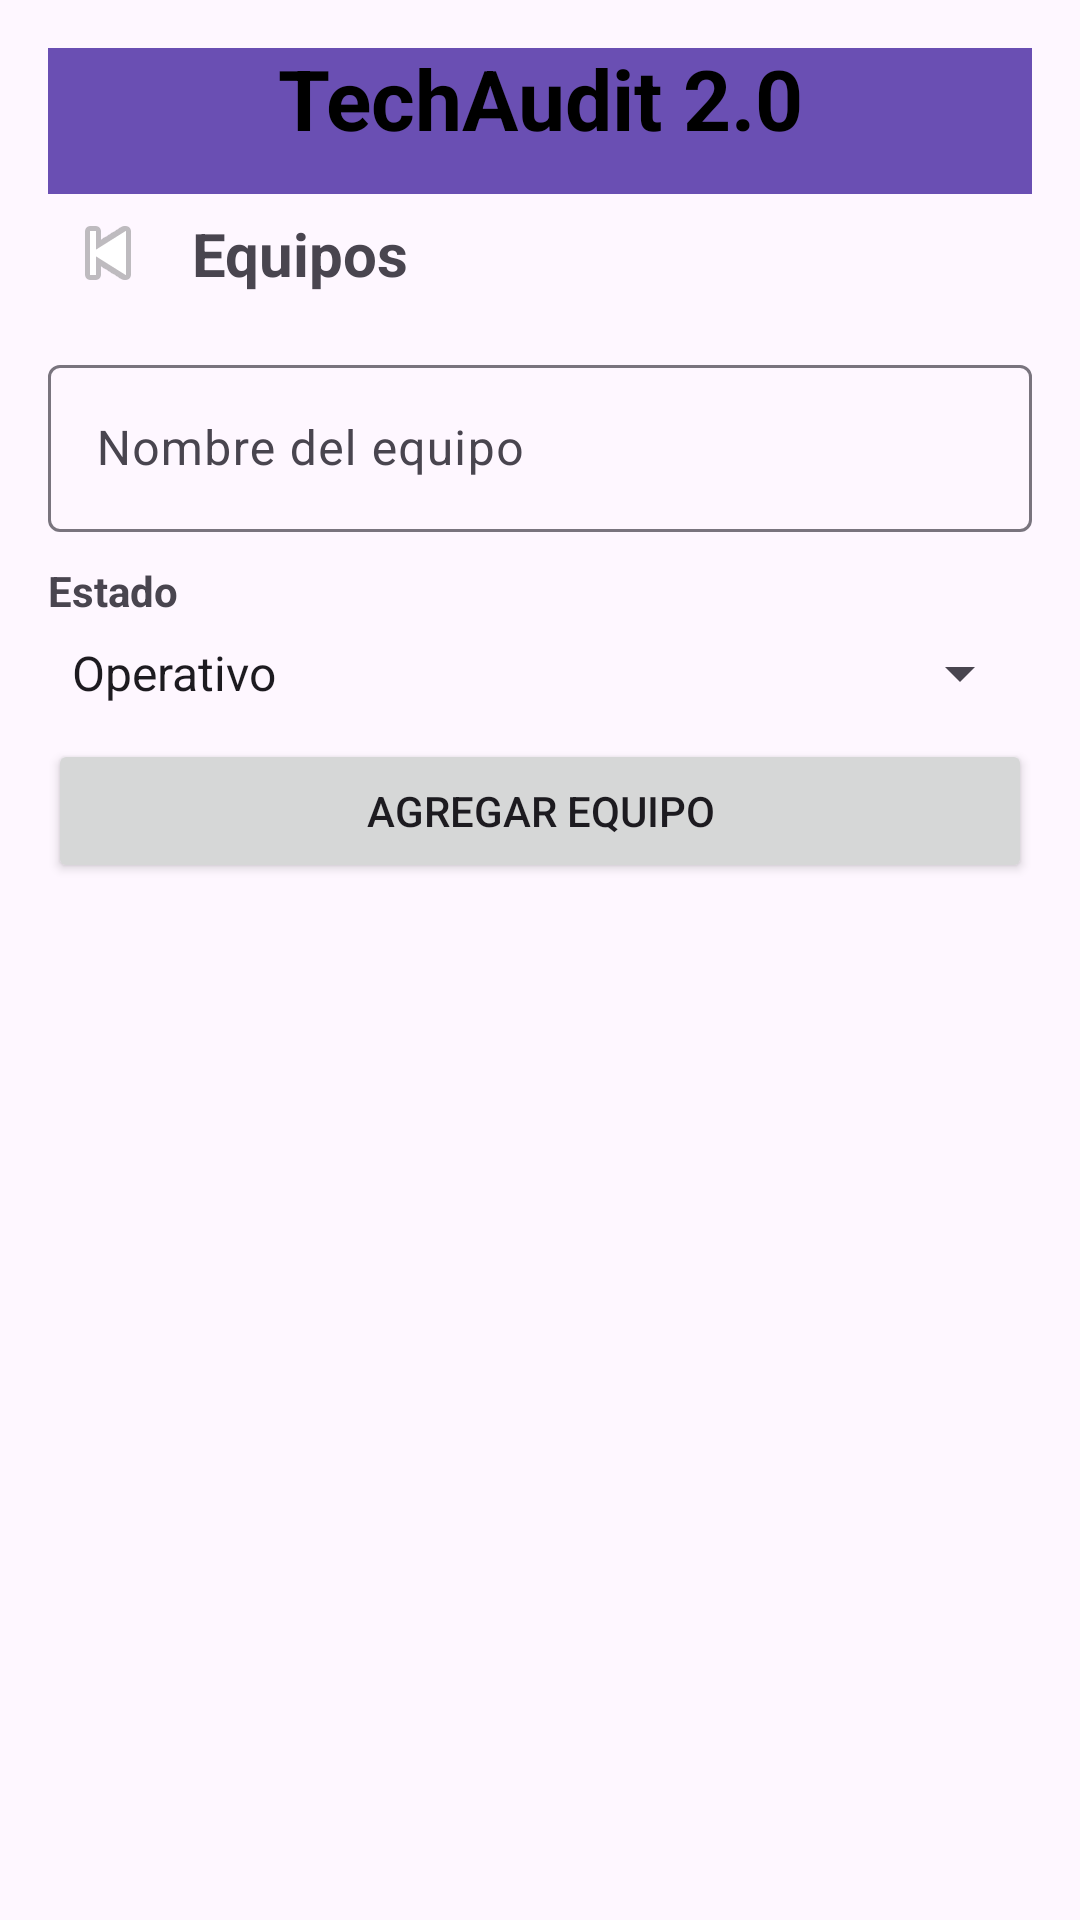

Where icons sit on this 1080 × 1920 app screen, as [x1=x1, y1=y1, x2=x2, y2=y2]:
Volver: [x1=85, y1=226, x2=131, y2=280]
